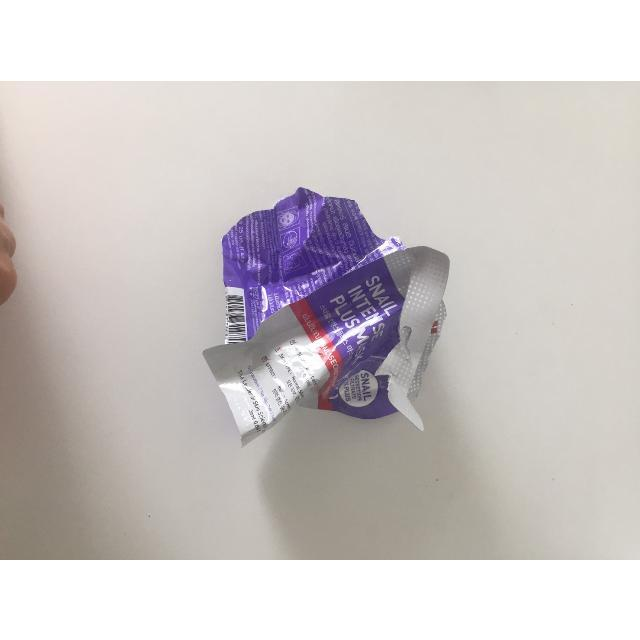Paquete de plastico: (193, 183, 460, 435)
